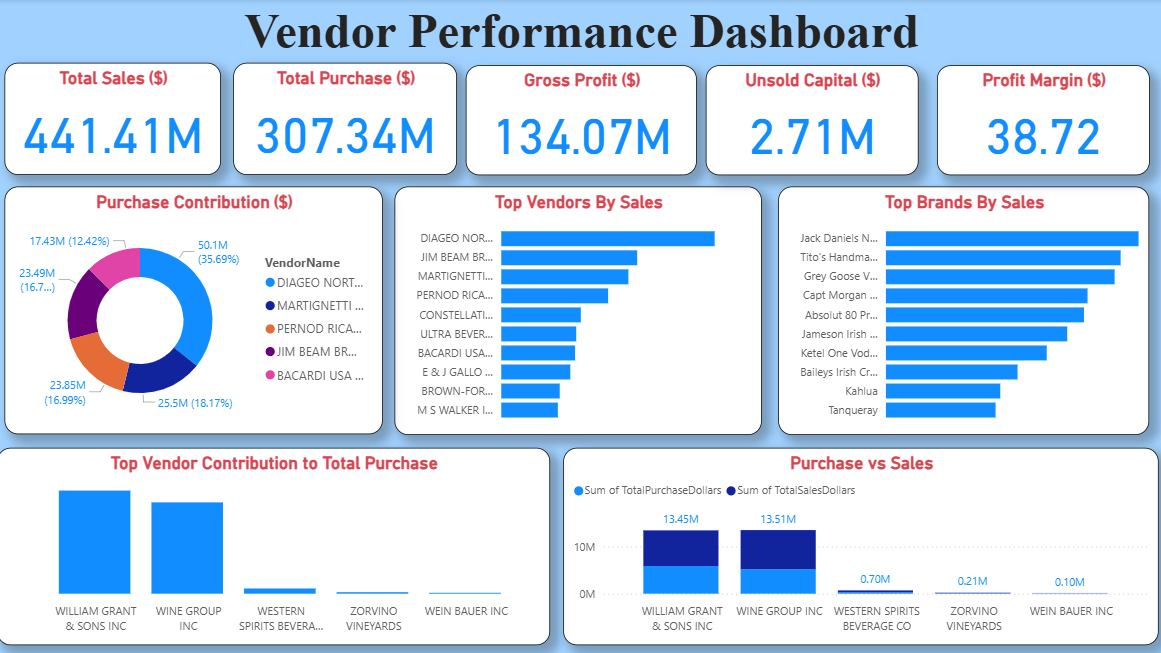

What the dashboard file says about the page in this screenshot:
{"tool":"powerbi","page":{"name":"Page 1","canvas":[1280,720],"ordinal":0},"visuals":[{"type":"textbox","box":[151.5,0,981.7,72.8],"z":0},{"type":"card","title":"Total Sales ($)","fields":{"Values":["Sum(public vendor_sales_summary.TotalSalesDollars)"]},"box":[8.2,70,237.4,123.5],"z":1000},{"type":"card","title":"Total Purchase ($)","fields":{"Values":["Sum(public vendor_sales_summary.TotalPurchaseDollars)"]},"box":[259.3,70,245.6,123.5],"z":2000},{"type":"card","title":"Gross Profit ($)","fields":{"Values":["Sum(public vendor_sales_summary.GrossProfit)"]},"box":[514.6,72.7,253.9,120.8],"z":3000},{"type":"clusteredBarChart","title":"Top Vendors By Sales","fields":{"Category":["public vendor_sales_summary.VendorName"],"Y":["Sum(public vendor_sales_summary.TotalSalesPrice)"]},"box":[436.4,205.8,403.4,273.1],"z":4000},{"type":"card","title":"Unsold Capital ($)","fields":{"Values":["Sum(public vendor_sales_summary.UnsoldCapital)"]},"box":[778,72.7,233.3,120.8],"z":5000},{"type":"donutChart","title":"Purchase Contribution ($)","fields":{"Category":["PurchaseContribution.VendorName"],"Y":["Sum(PurchaseContribution.TotalPurchaseDollars)"]},"box":[8.7,205.4,415.1,272.4],"z":6000},{"type":"clusteredBarChart","title":"Top Brands By Sales","fields":{"Category":["public vendor_sales_summary.Description"],"Y":["Sum(public vendor_sales_summary.TotalSalesDollars)"]},"box":[857.6,205.8,407.5,273.1],"z":7000},{"type":"columnChart","title":"Purchase vs Sales","fields":{"Category":["public vendor_sales_summary.VendorName"],"Y":["Sum(public vendor_sales_summary.TotalPurchaseDollars)","Sum(public vendor_sales_summary.TotalSalesDollars)"]},"box":[621.9,492.3,654,217],"z":8000},{"type":"columnChart","title":"Top Vendor Contribution to Total Purchase","fields":{"Y":["Sum(PurchaseContribution.PurchaseContribution%)"],"Category":["PurchaseContribution.VendorName"]},"box":[0,492.3,607.4,217],"z":9000},{"type":"card","title":"Profit Margin ($)","fields":{"Values":["Avg(public vendor_sales_summary.ProfitMargin)"]},"box":[1031.9,72.7,233.3,120.8],"z":10000}]}

Visuals, with their boxes in screenshot pixels (x1, y1, x2, y2), scaled from the page's 1280x720 canvas onto the 1161x653 screenshot:
textbox: <box>137,0,1028,66</box>
"Total Sales ($)" card: <box>7,63,223,175</box>
"Total Purchase ($)" card: <box>235,63,458,175</box>
"Gross Profit ($)" card: <box>467,66,697,175</box>
"Top Vendors By Sales" clusteredBarChart: <box>396,187,762,434</box>
"Unsold Capital ($)" card: <box>706,66,917,175</box>
"Purchase Contribution ($)" donutChart: <box>8,186,384,433</box>
"Top Brands By Sales" clusteredBarChart: <box>778,187,1147,434</box>
"Purchase vs Sales" columnChart: <box>564,446,1157,643</box>
"Top Vendor Contribution to Total Purchase" columnChart: <box>0,446,551,643</box>
"Profit Margin ($)" card: <box>936,66,1148,175</box>
